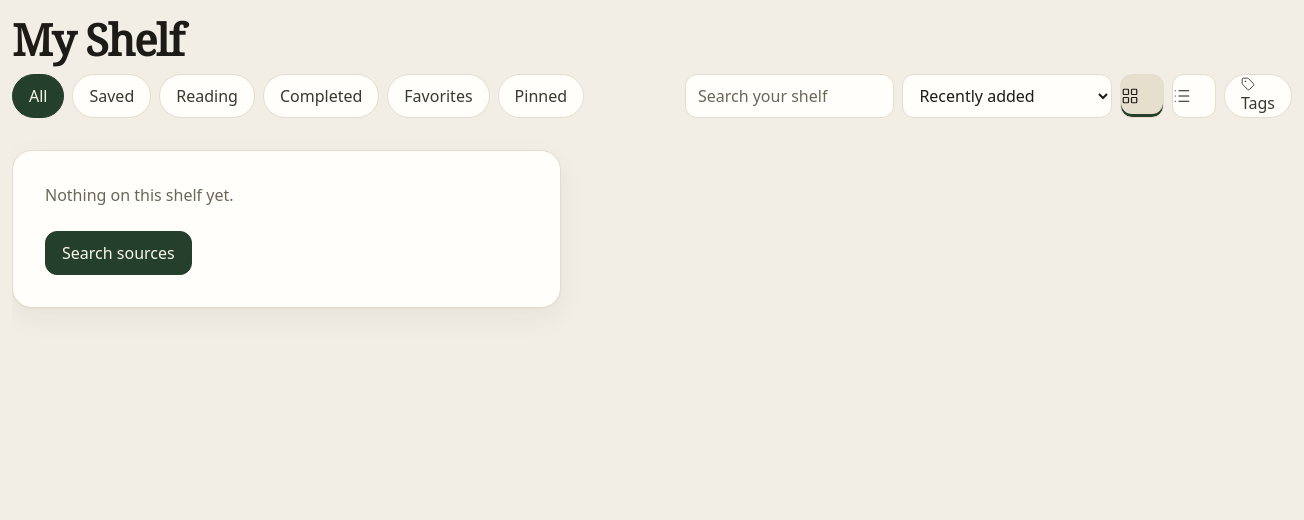
Test: My Shelf › keeps search focused and editable while slower shelf responses arrive out of order
Type "abc" into the search field labelled "Search your shelf" at (790, 96), box [685, 74, 894, 118]
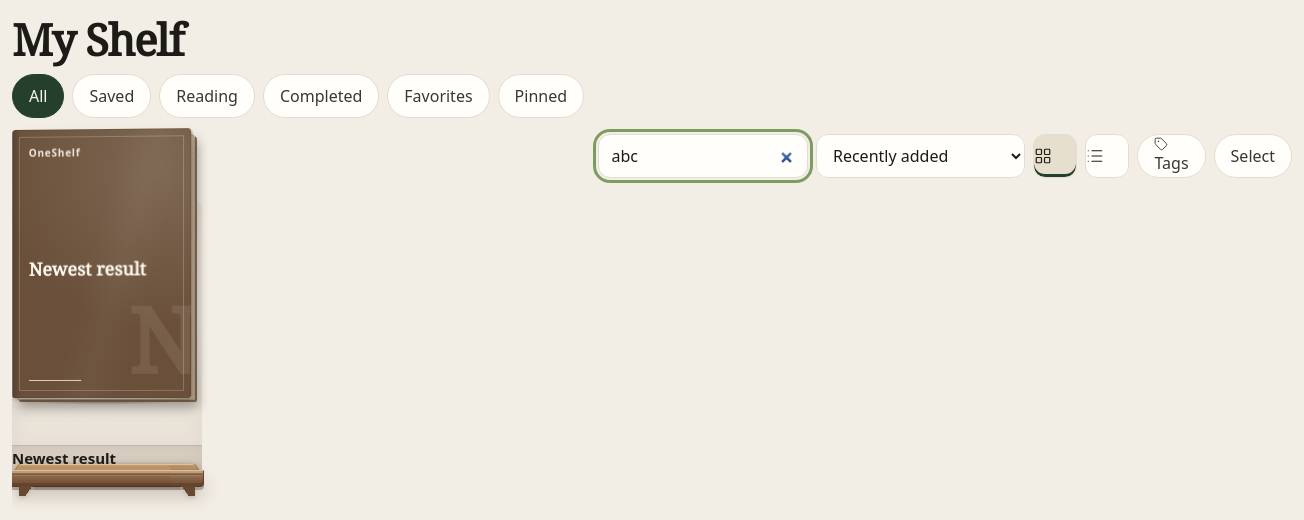
Expected: the search field named "Search your shelf" is enabled, [598, 134, 808, 178]
Result: the link "N OneShelf Newest result" is shown at [12, 130, 202, 472]
